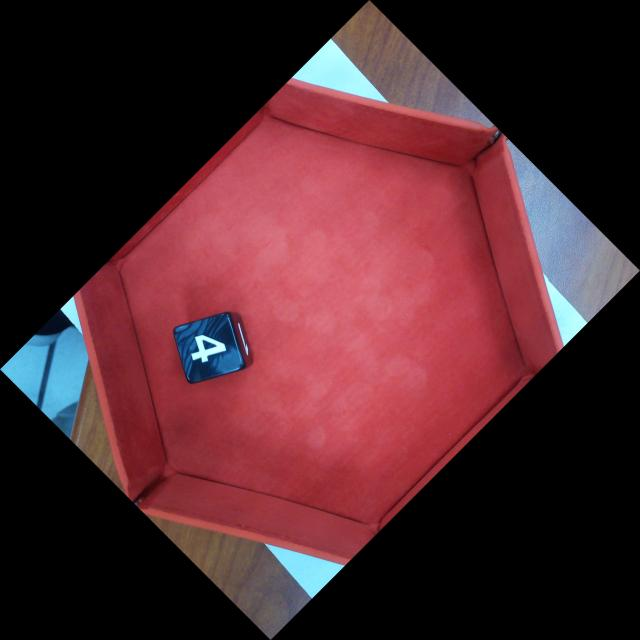dice: (173, 311, 247, 384)
